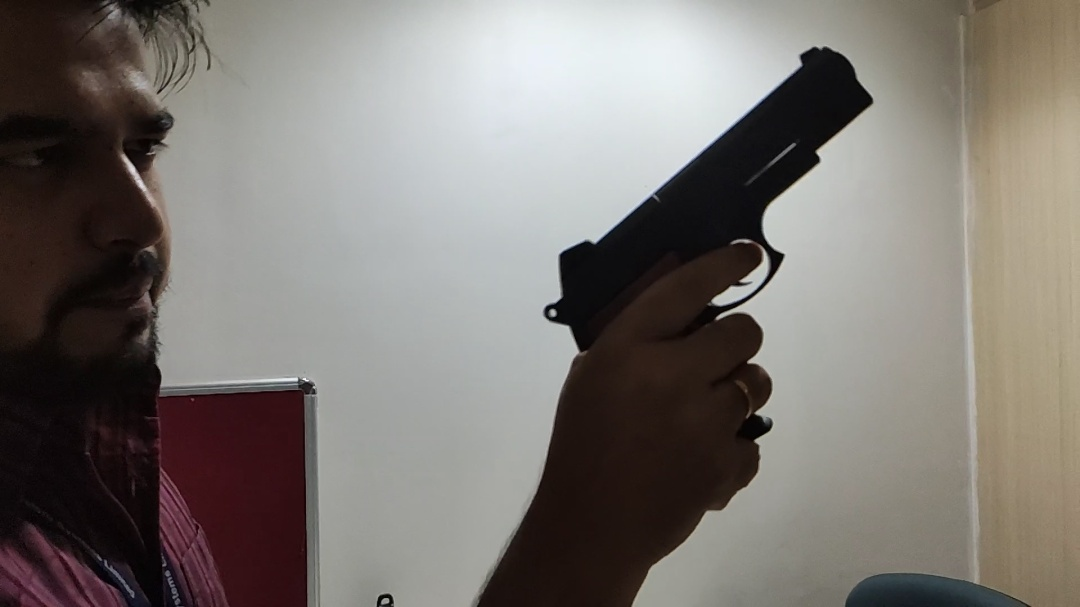gun: (540, 42, 881, 450)
